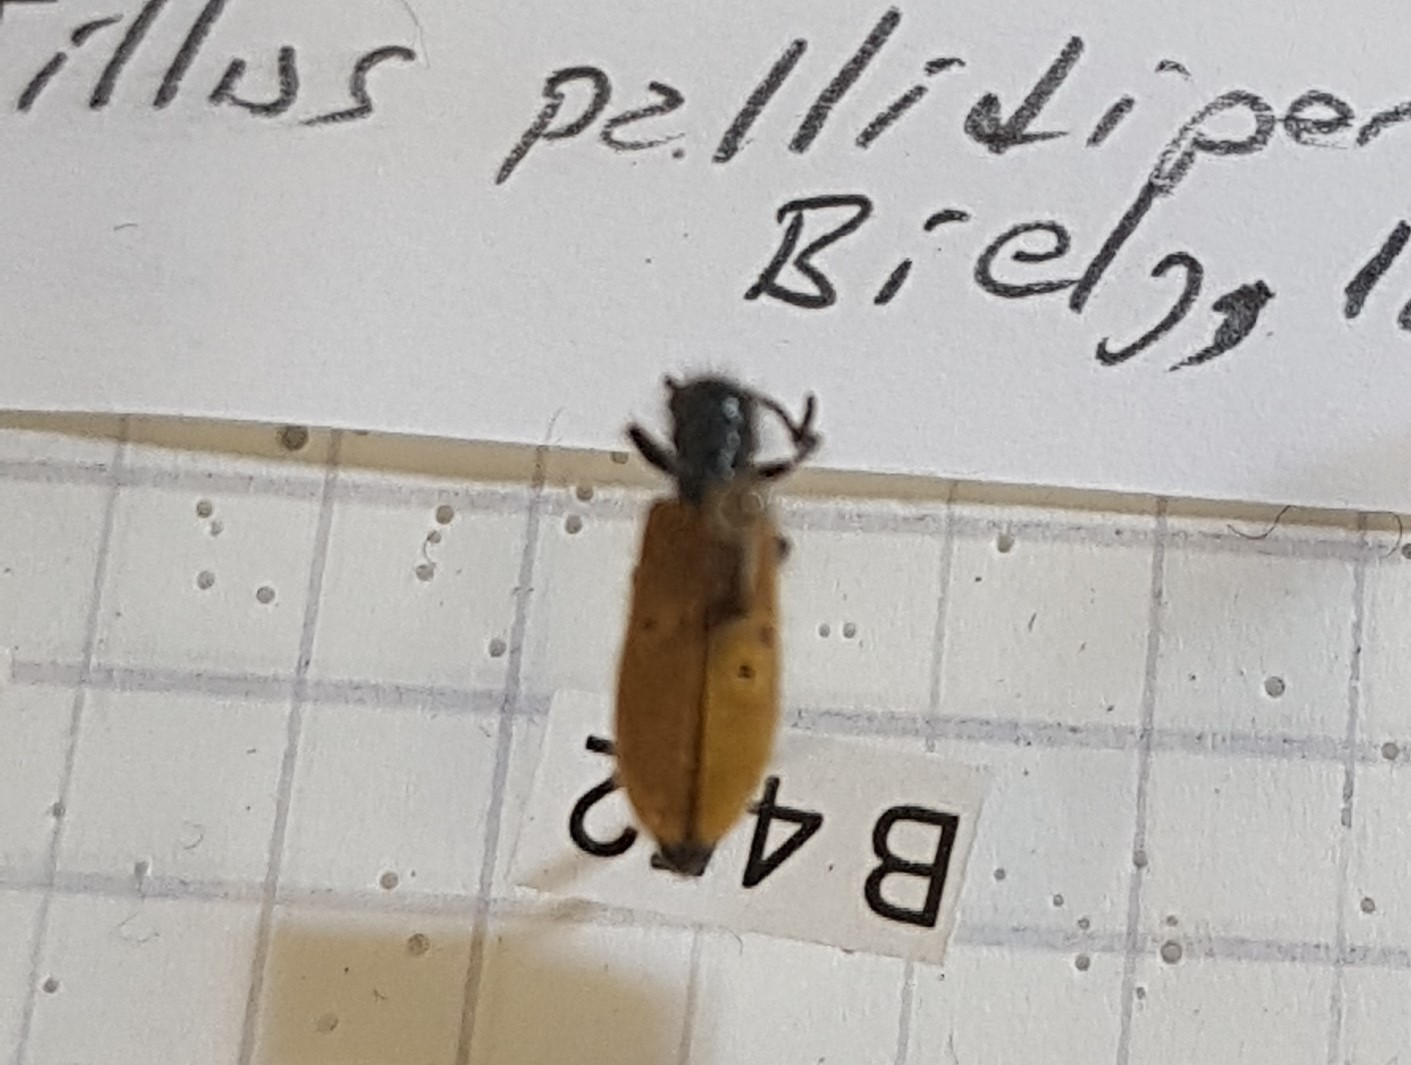tillus_pallidipennis: (602, 355, 847, 882)
